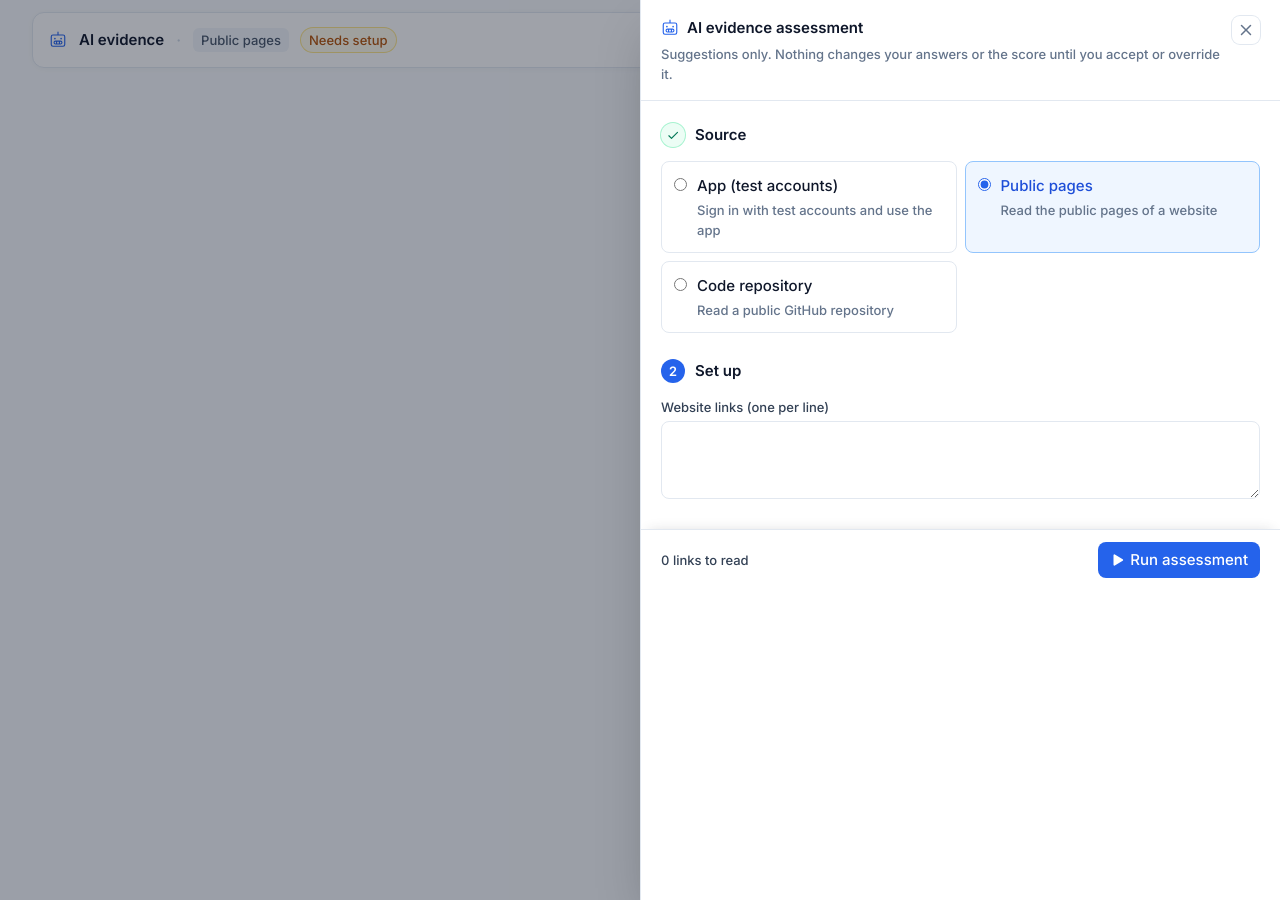
Scenario: Code repository source in the evidence panel › saves the repository and shows the saved address
Earlier steps of the test are not shown.
Step 1. Click the radio button labelled "Code repository" → click(680, 284), box [674, 278, 687, 291]
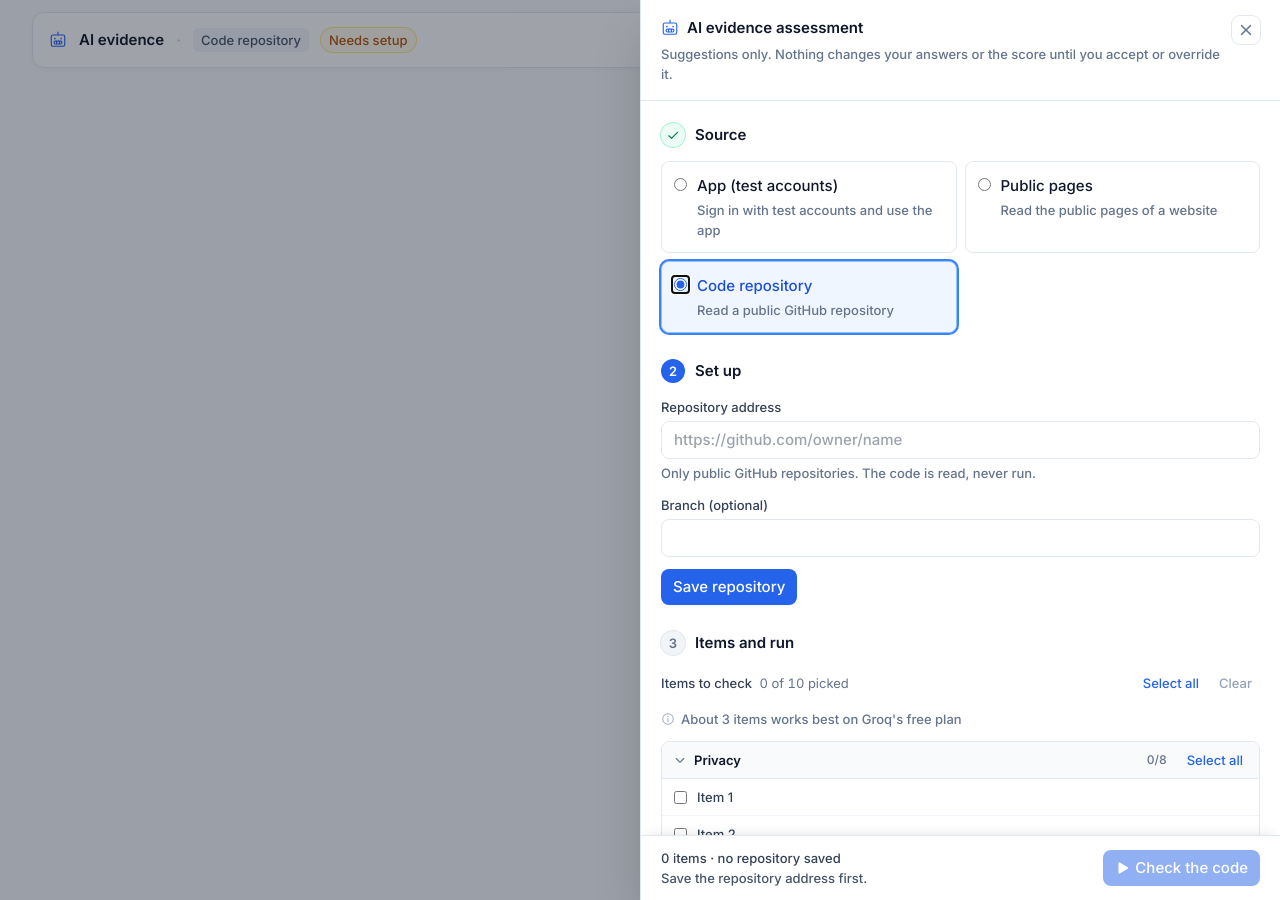
Expected: the field labelled "Repository address" is shown
Step 2. Type "https://github.com/o/n" into the field labelled "Repository address" → (960, 440), box [661, 421, 1260, 459]
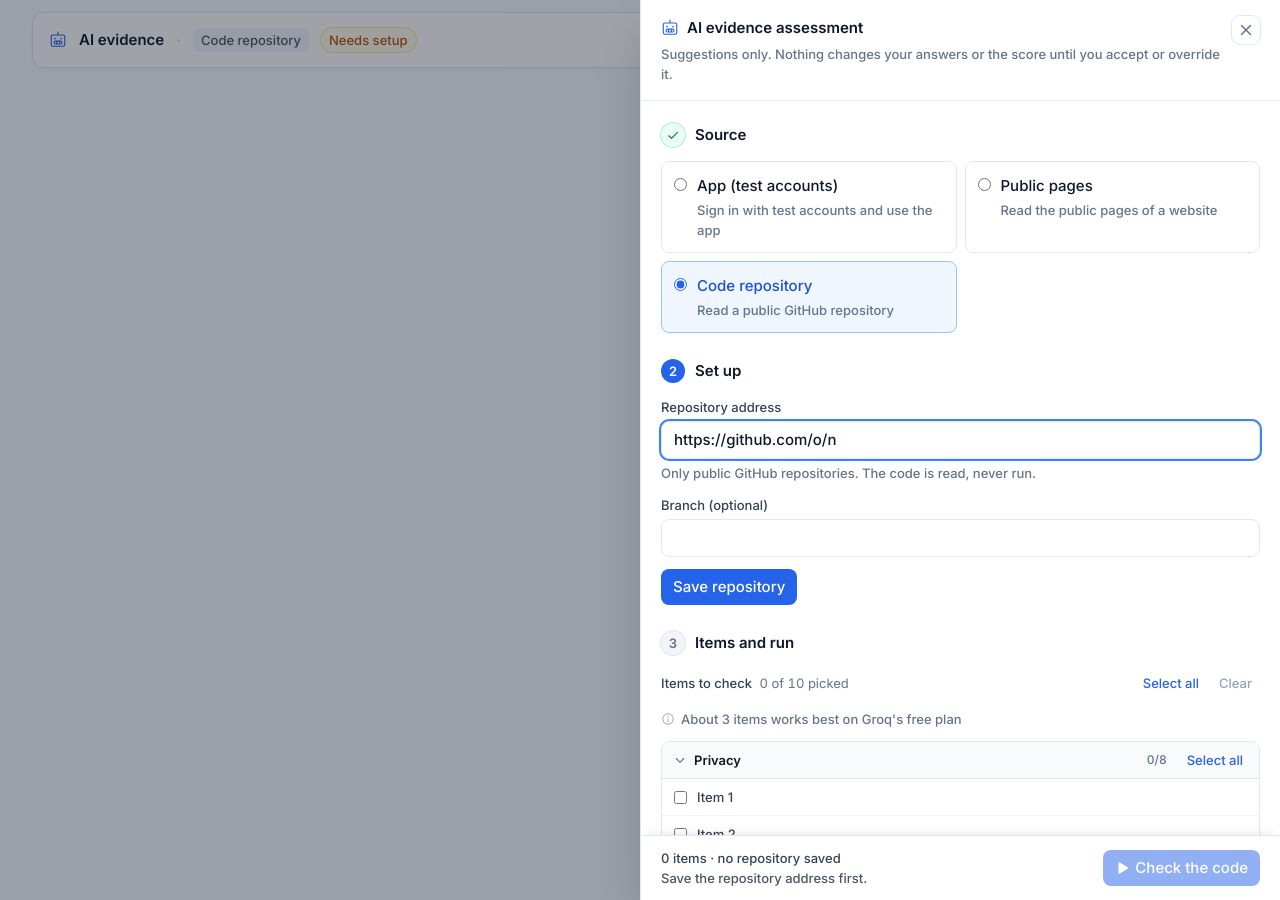
Step 3. Type "dev" into the field labelled "Branch (optional)" → (960, 538), box [661, 519, 1260, 557]
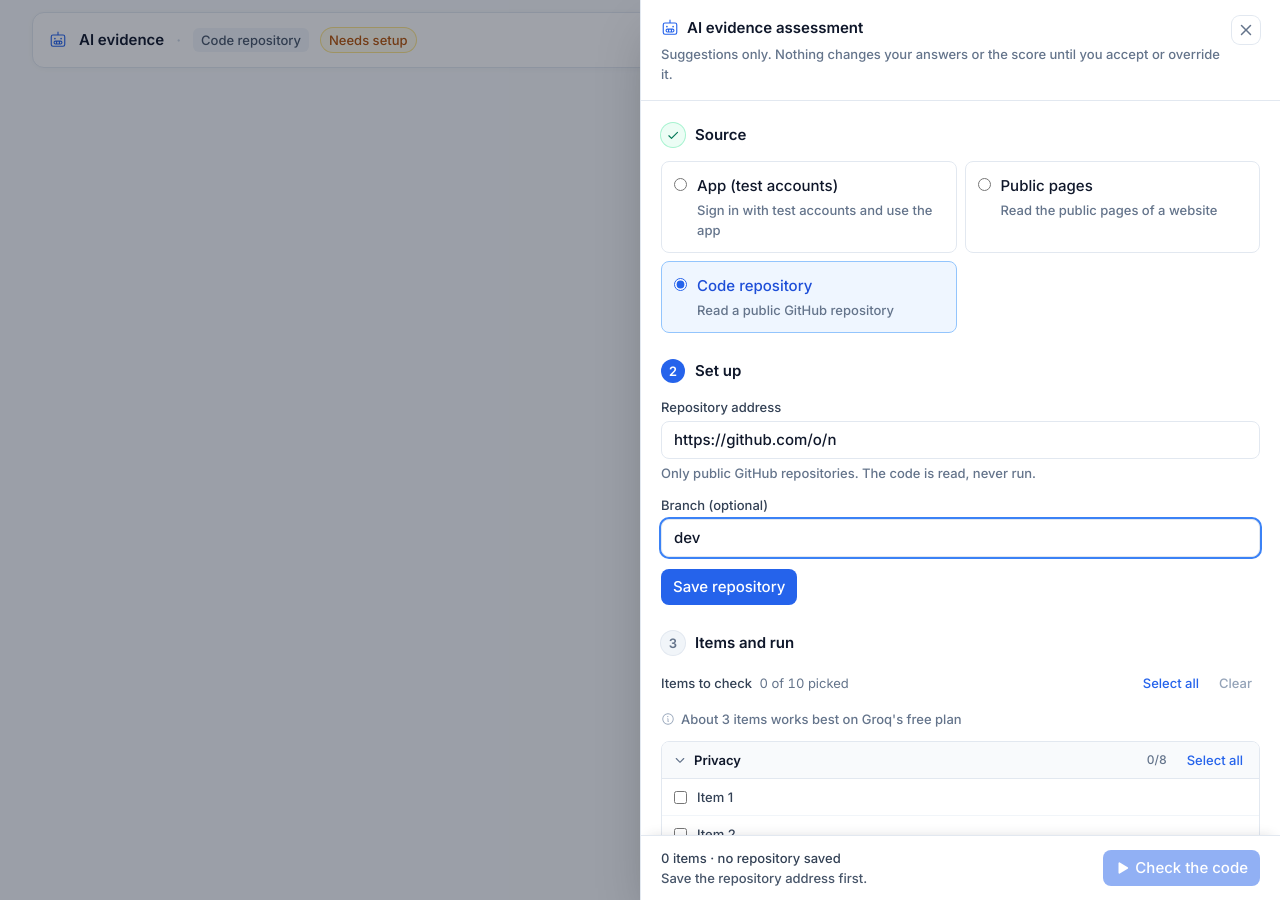
Step 4. Click the button "Save repository" → click(729, 587), box [661, 569, 797, 605]
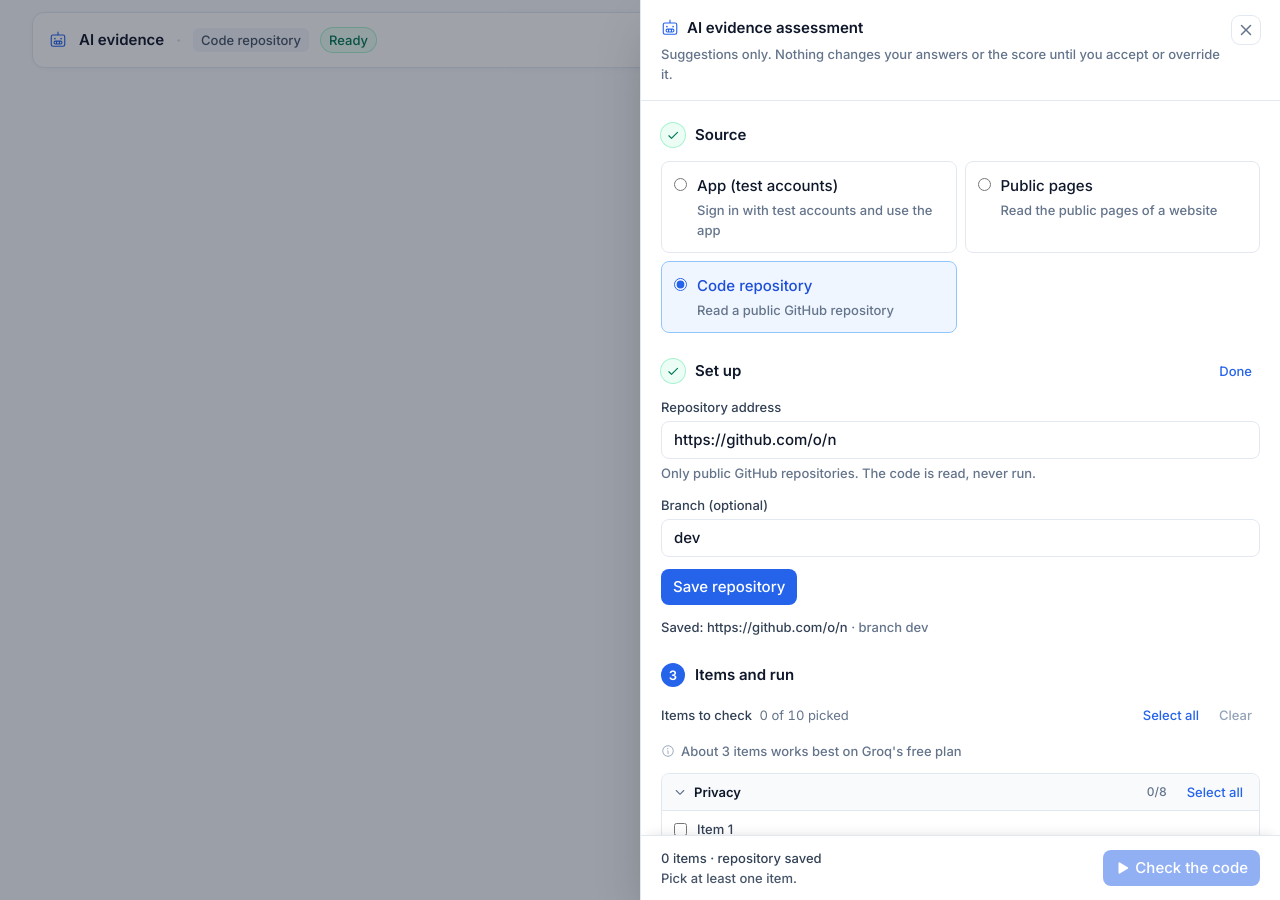
Expected: the text "https://github.com/o/n" is shown, [707, 619, 848, 635]
